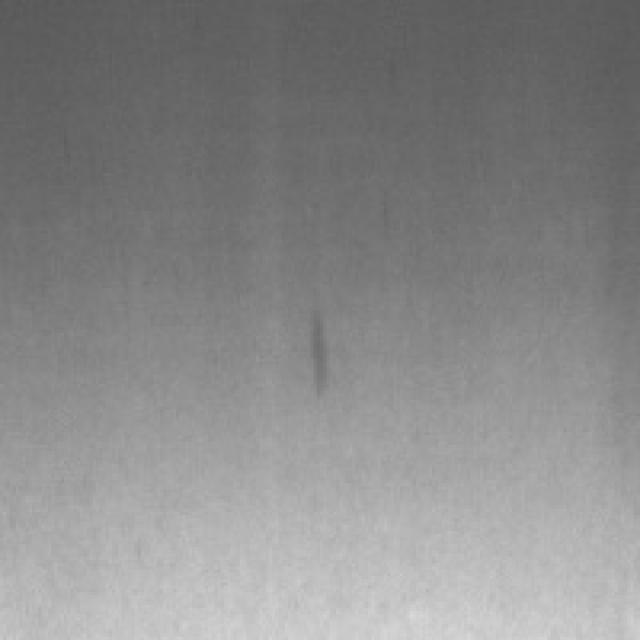inclusion: (294, 298, 342, 412)
